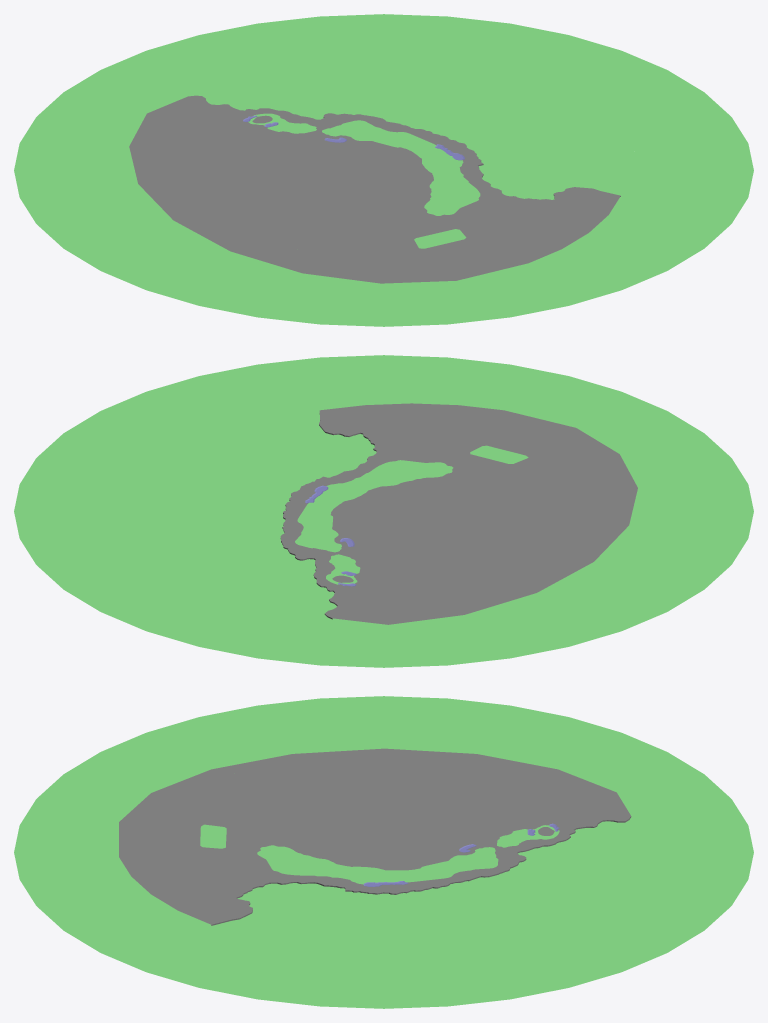
File: glf_course_fc18.kcl.glb
3 renders of one model, top to bottom at view 1: azimuth 30°, elevation 25°; view 2: azimuth 150°, elevation 25°; view 3: azimuth 270°, elevation 25°, orthographic.
Parts seen in each view (by area): view 1: collision_0x0007, collision_0x0004, collision_0x0002, collision_0x0001; view 2: collision_0x0007, collision_0x0004, collision_0x0002, collision_0x0001; view 3: collision_0x0007, collision_0x0004, collision_0x0002, collision_0x0001, collision_0x000c.
Part boxes in pixels (x1=…): collision_0x0007: x1=14, y1=14, x2=753, y2=326; collision_0x0004: x1=129, y1=95, x2=620, y2=283; collision_0x0002: x1=237, y1=111, x2=526, y2=251; collision_0x0001: x1=248, y1=113, x2=480, y2=248; collision_0x0007: x1=14, y1=355, x2=753, y2=667; collision_0x0004: x1=280, y1=403, x2=637, y2=624; collision_0x0002: x1=285, y1=439, x2=531, y2=589; collision_0x0001: x1=295, y1=445, x2=528, y2=584; collision_0x0007: x1=14, y1=696, x2=753, y2=1008; collision_0x0004: x1=119, y1=748, x2=630, y2=924; collision_0x0002: x1=194, y1=822, x2=565, y2=891; collision_0x0001: x1=200, y1=824, x2=559, y2=884; collision_0x000c: x1=211, y1=816, x2=631, y2=925.
Bounding box in the file's own units: 10973 × 40 × 10973.
